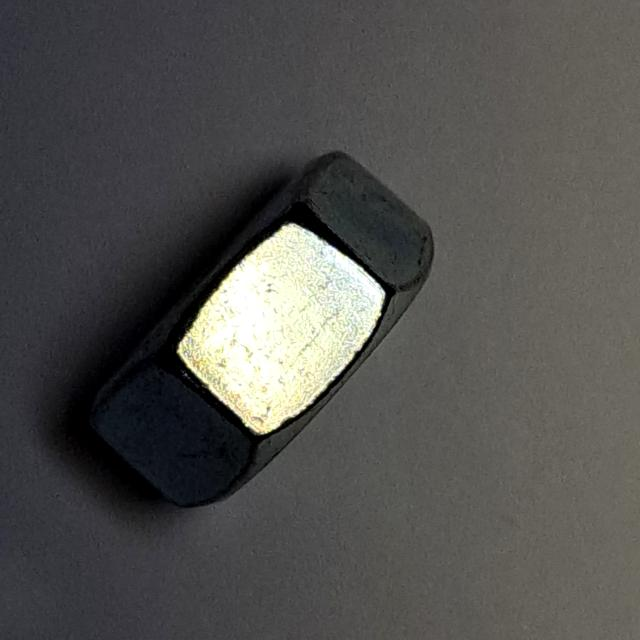Side_Excellent: (72, 137, 450, 522)
